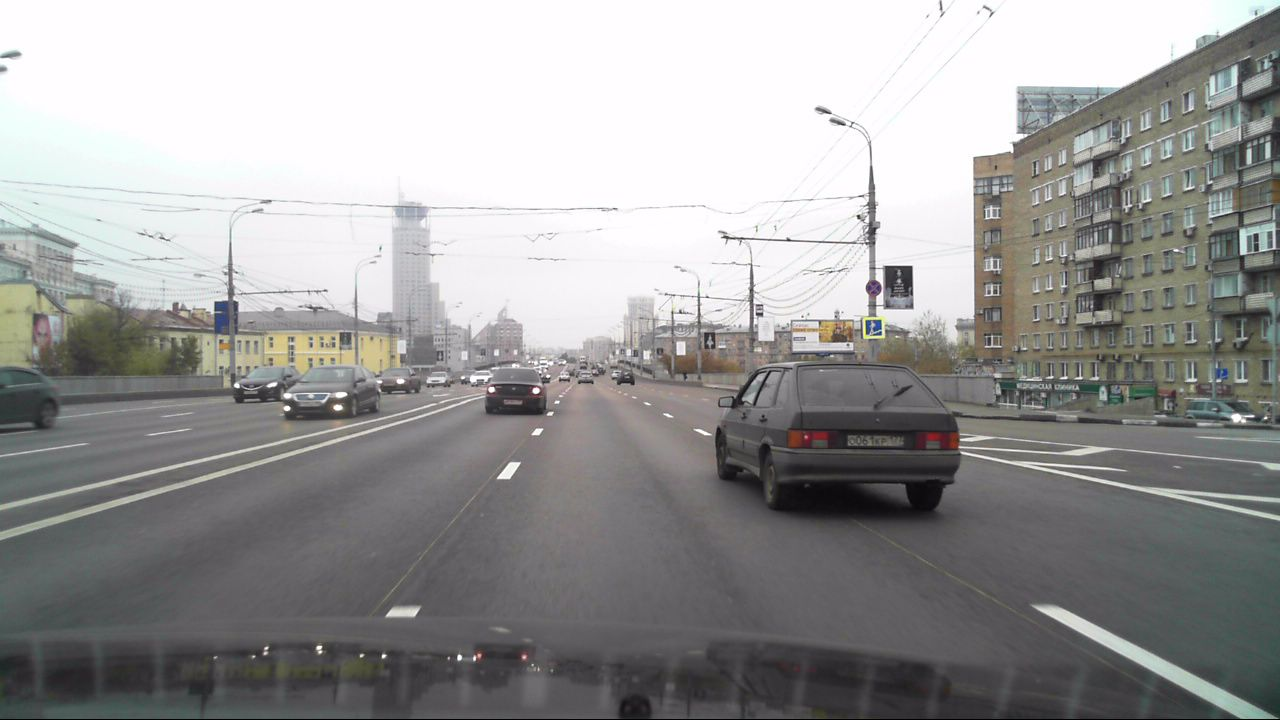No Parking: (865, 278, 882, 296)
